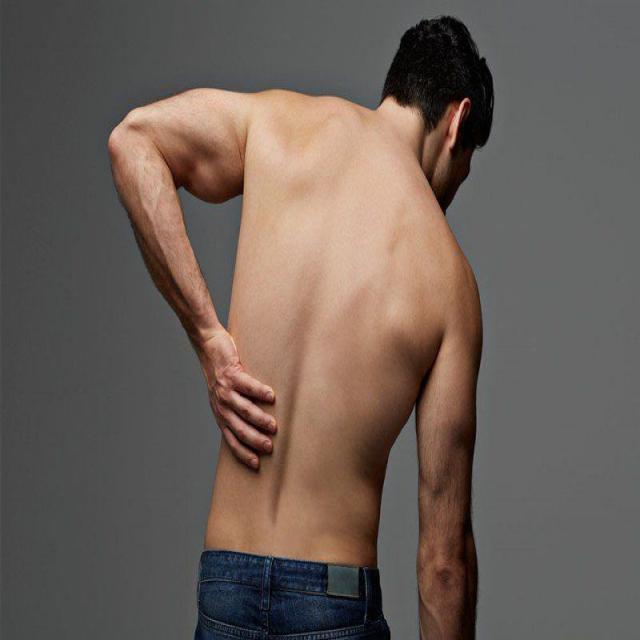adult: (103, 14, 496, 640)
